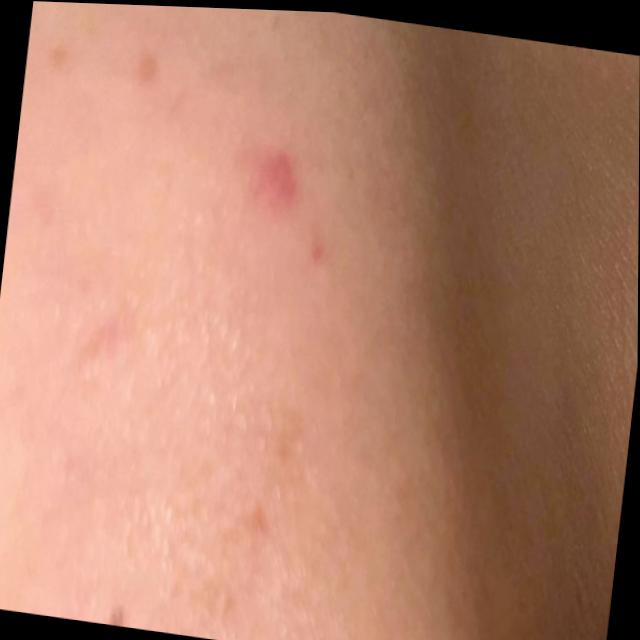papule: (177, 8, 347, 319)
